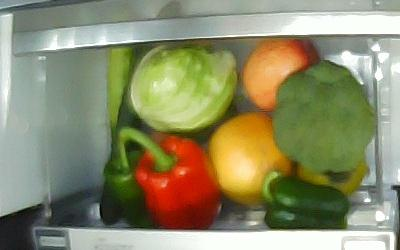apple: (242, 38, 318, 114)
broccoli: (272, 60, 379, 171)
cucumber: (100, 48, 146, 226), (106, 48, 135, 142)
grapefruit: (209, 112, 292, 206)
lettuce: (131, 44, 237, 132)
paprika: (119, 125, 221, 230), (263, 168, 348, 229), (104, 137, 144, 227)
persimmon: (295, 154, 366, 196)
